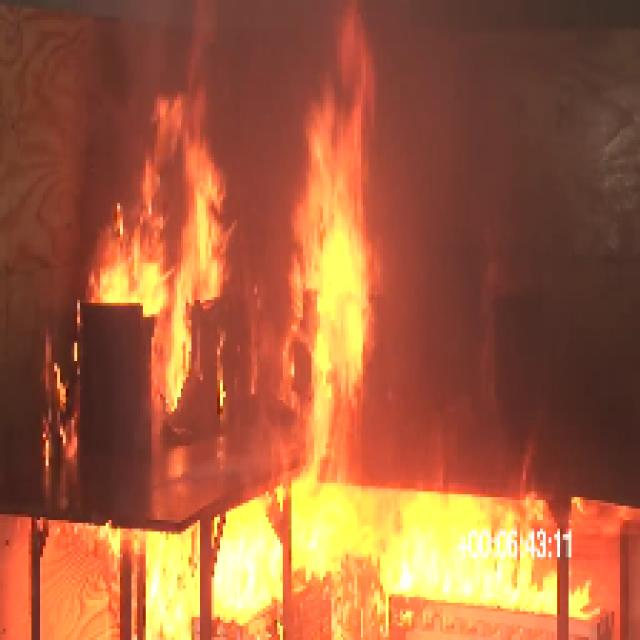fire: (138, 522, 537, 615), (99, 95, 232, 326), (303, 106, 359, 452)
